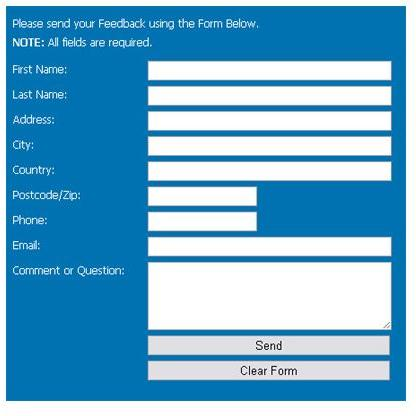button: (146, 359, 390, 382), (146, 334, 390, 356)
field: (145, 260, 393, 332), (146, 59, 393, 82), (145, 84, 392, 107), (146, 235, 393, 258), (146, 110, 392, 132), (146, 160, 392, 182), (145, 135, 393, 156), (146, 210, 259, 234), (146, 186, 258, 208)
field_with_label: (7, 260, 394, 332), (12, 58, 394, 83), (10, 83, 392, 108), (9, 108, 391, 133), (9, 134, 391, 159), (11, 159, 393, 184), (11, 235, 393, 260), (9, 185, 260, 209), (9, 211, 258, 232)
